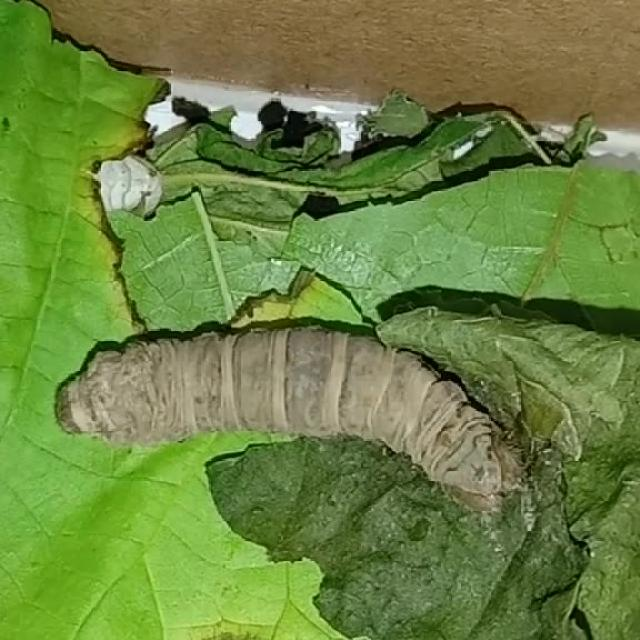Grasserie: (43, 303, 525, 511)
